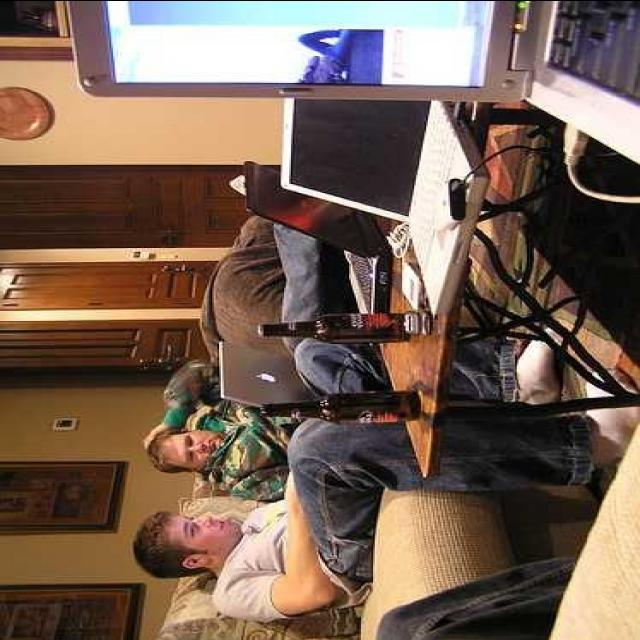laptop: (84, 3, 640, 97), (278, 96, 478, 312), (248, 175, 381, 299), (224, 347, 306, 414)
